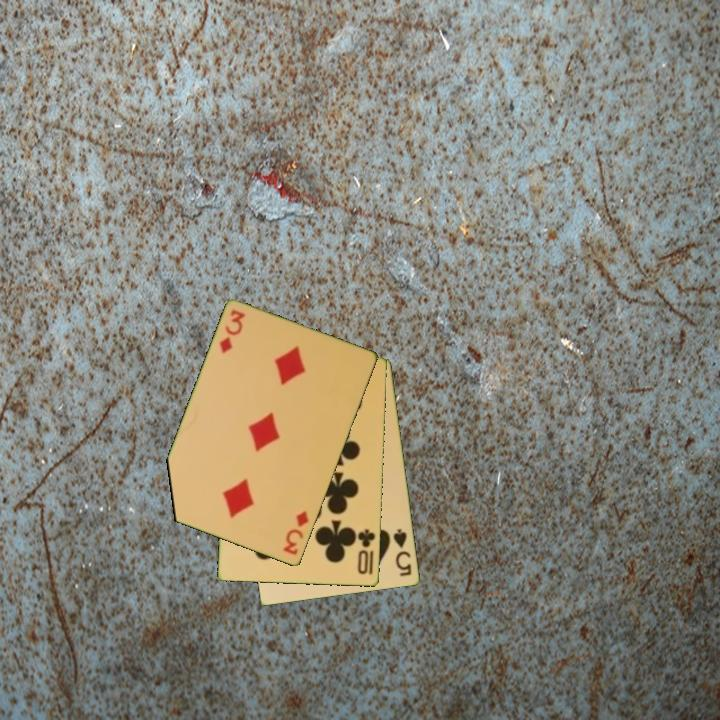10c: (354, 526, 378, 577)
3d: (216, 306, 249, 357), (280, 507, 312, 558)
5s: (390, 525, 415, 579)
